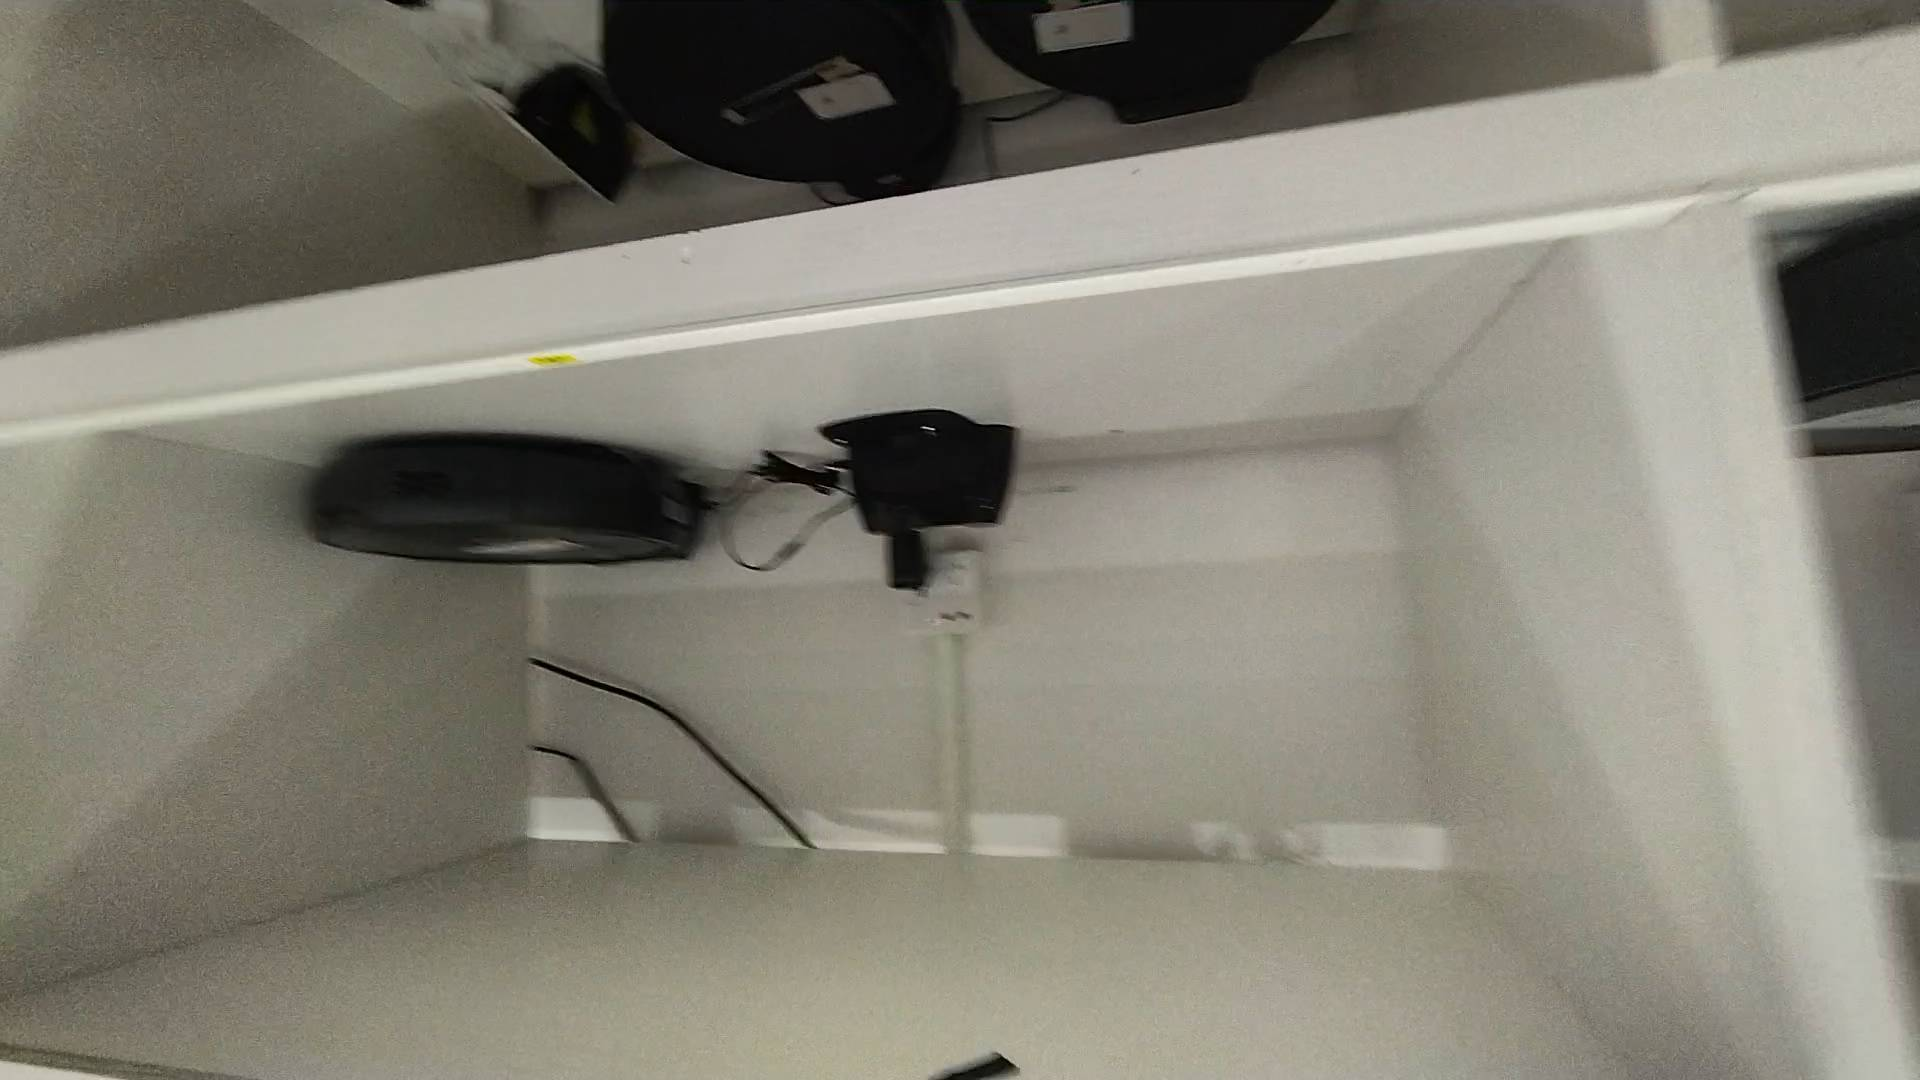recharge seat: (818, 409, 1025, 537)
